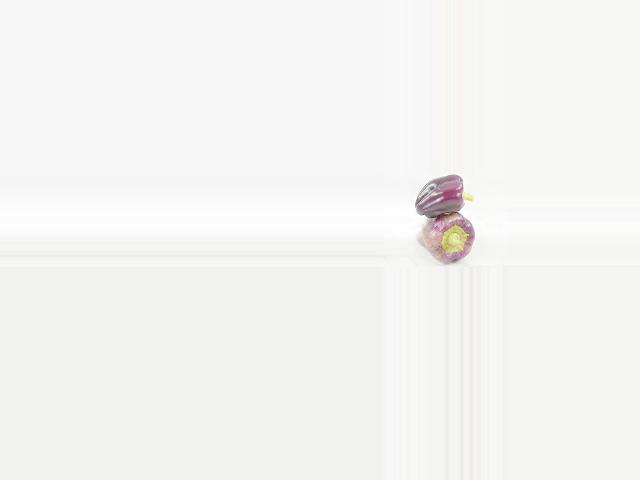bell_pepper: (406, 211, 486, 265)
